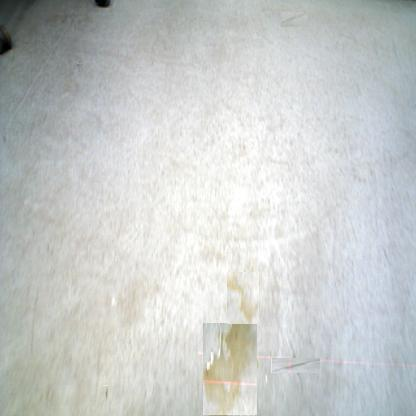liquid: (203, 323, 257, 415), (227, 272, 259, 324)
mark: (280, 349, 312, 382), (280, 11, 308, 27), (102, 385, 108, 400), (0, 132, 6, 144), (76, 62, 82, 68)
